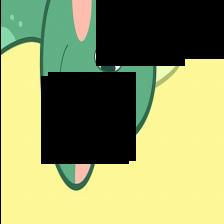yellow: (0, 1, 224, 224)
